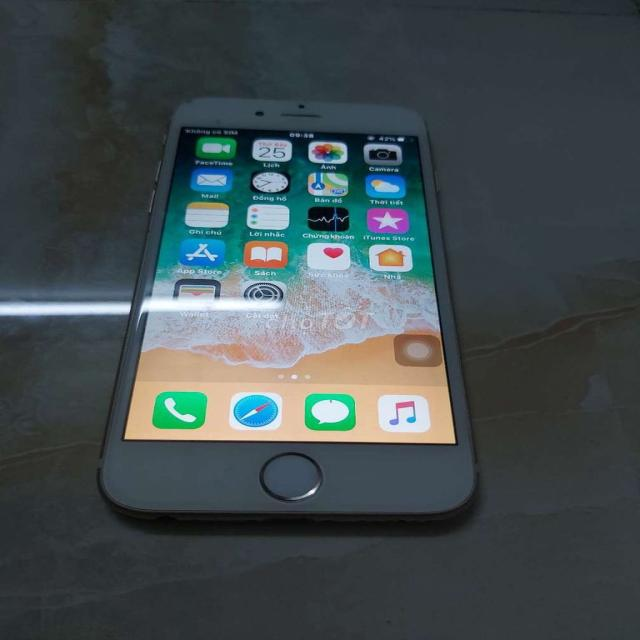gen_6: (98, 98, 476, 519)
